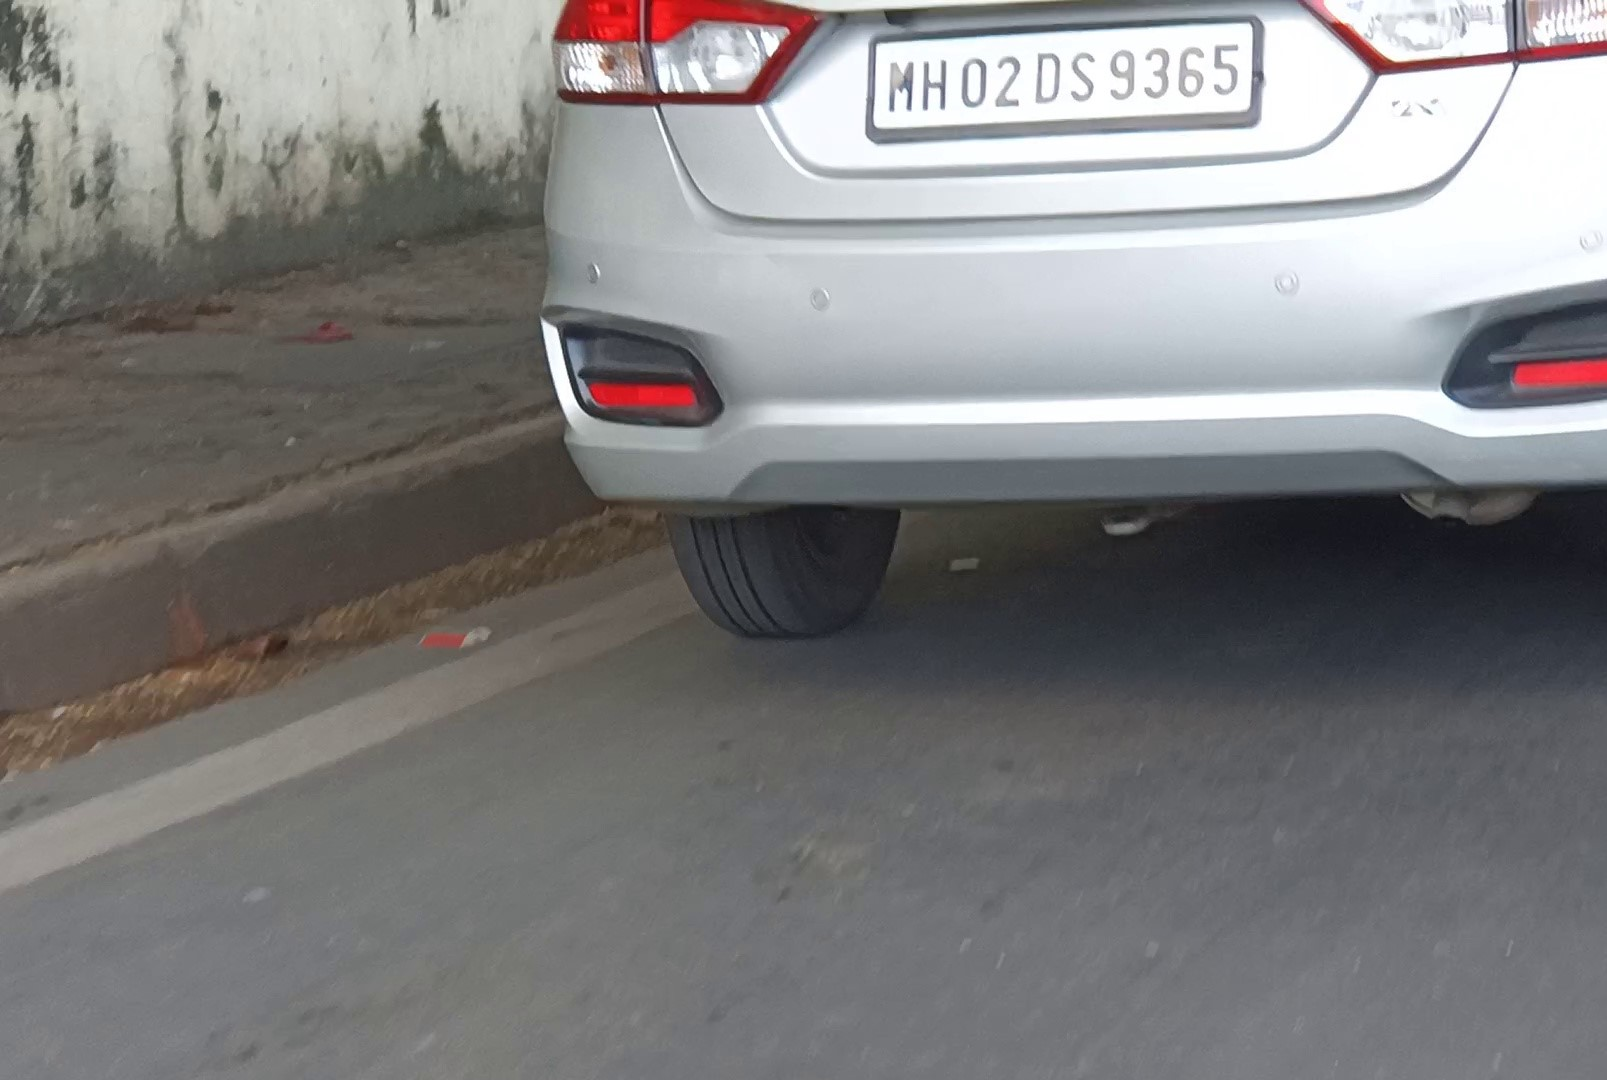MH02DS9365: (868, 21, 1257, 128)
